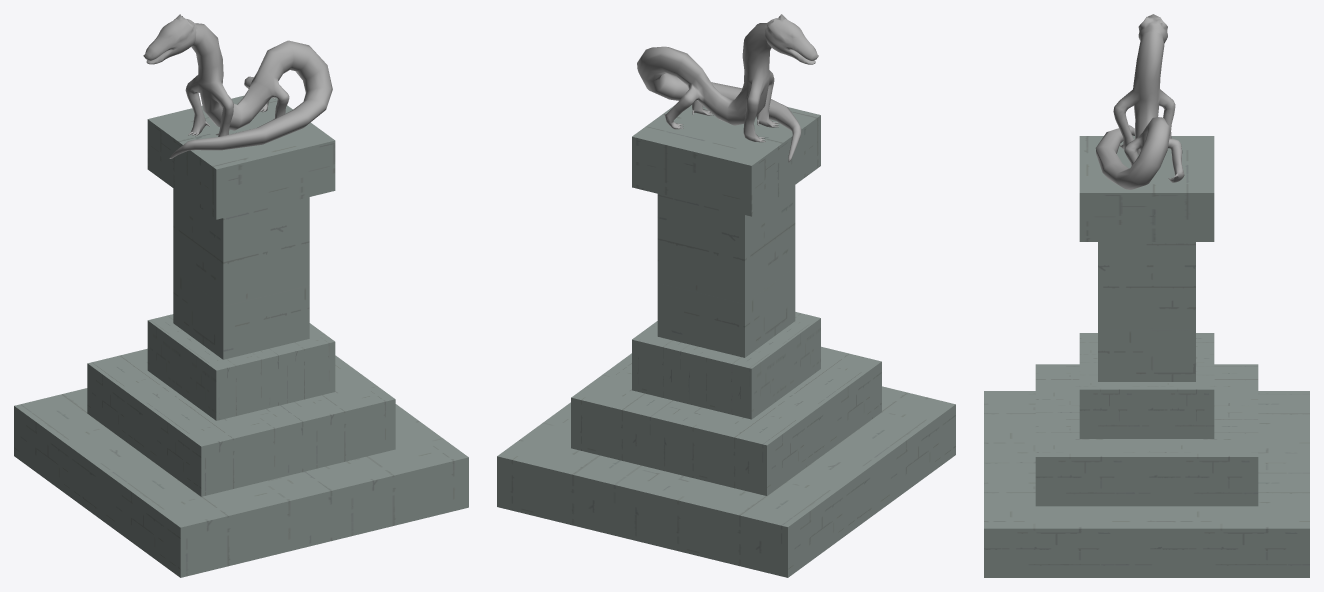
Rendered from dragonStatue.fbx.
The picture shows the model from 3 angles, left to right: view 1: azimuth 30°, elevation 25°; view 2: azimuth 150°, elevation 25°; view 3: azimuth 270°, elevation 25°; orthographic projection. The views are drawn at different scales.
Parts seen in each view (by area): view 1: polySurface10; view 2: polySurface10; view 3: polySurface10.
Boxes of the visible parts, bbox=[...] form: polySurface10: bbox=[14, 14, 468, 577]; polySurface10: bbox=[497, 14, 955, 577]; polySurface10: bbox=[984, 14, 1309, 577].
Bounding box in the file's own units: 600 × 947 × 600.
